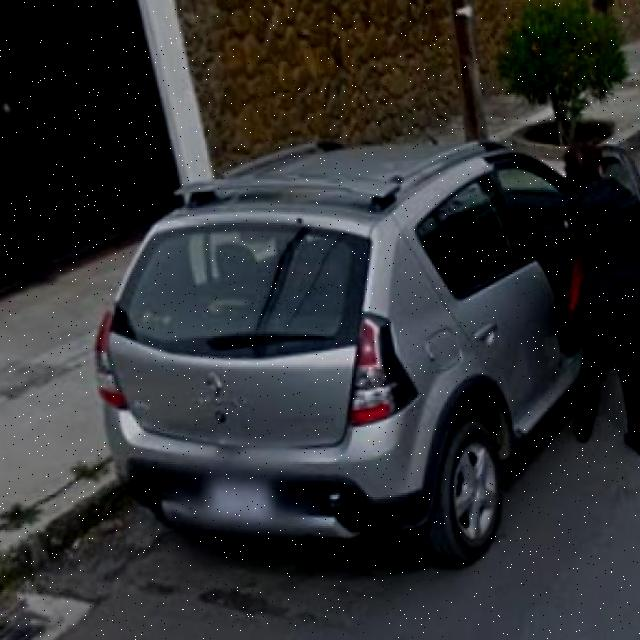car: (97, 174, 630, 567)
